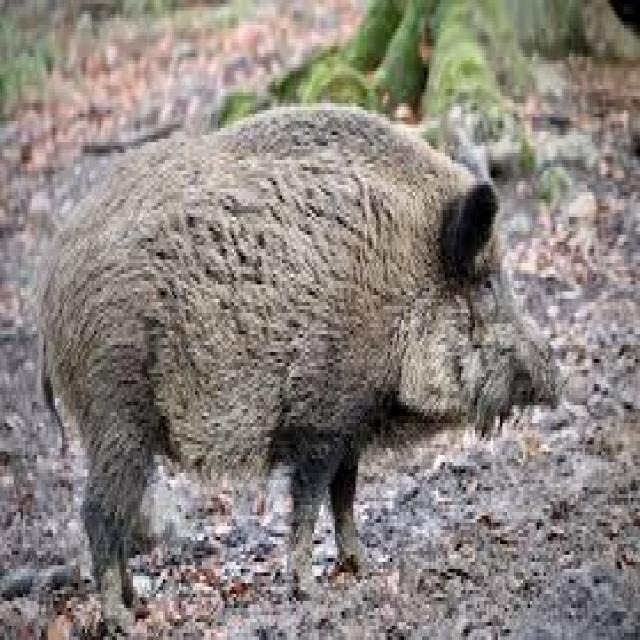boar: (26, 25, 534, 640)
